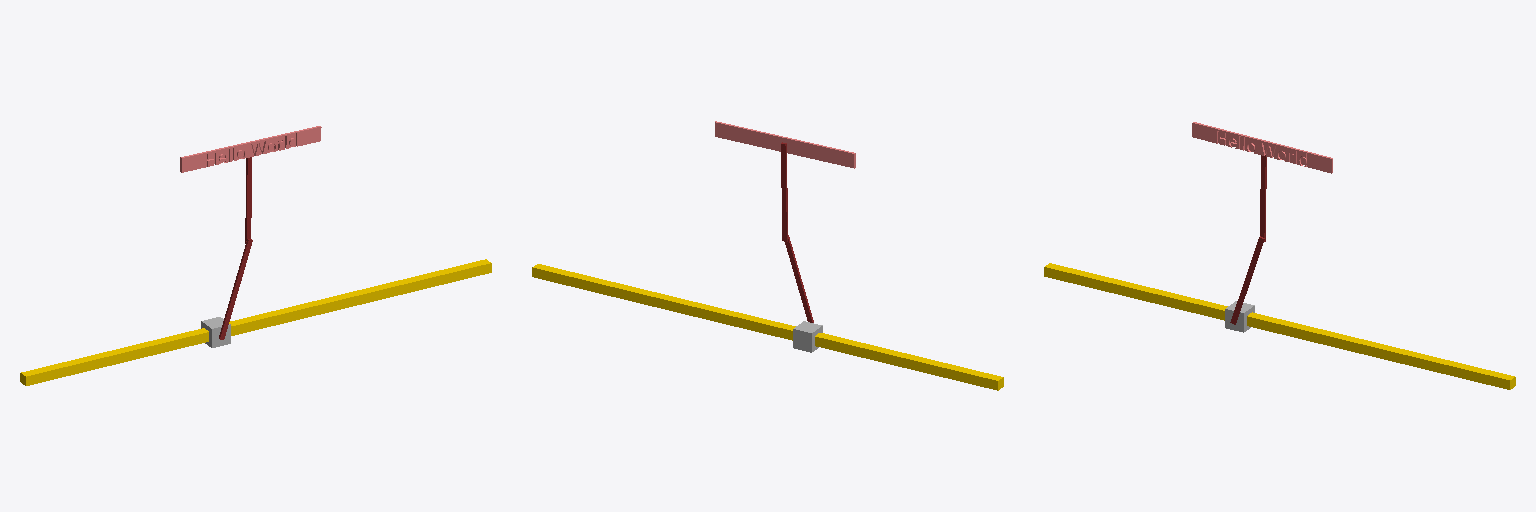
The robot description file, URDF, robot "DoublePendulum":
<?xml version="1.0" ?>
<!-- Generated using onshape-to-robot -->
<!-- Onshape https://cad.onshape.com/documents/23ff1b6c89f9297b7a0e9b8a/w/75eb753e20548f3cea30a049/e/ffe591d2a8c2ca2f335417a0 -->
<robot name="DoublePendulum">
  <material name="rail_material">
    <color rgba="1.0 0.84 0.3 1"/>
  </material>
  <material name="cart_material">
    <color rgba="0.75 0.75 0.75 1"/>
  </material>
  <material name="arm_material">
    <color rgba="0.2 0.3 0.7 1"/>
  </material>
  <material name="arm_2_material">
    <color rgba="0.2 0.3 0.7 1"/>
  </material>
  <material name="payload_material">
    <color rgba="0.11 0.33 0 1"/>
  </material>
  <!-- Link rail -->
  <link name="rail">
    <inertial>
      <origin xyz="0.33764 -0.0920018 0.120438" rpy="0 0 0"/>
      <mass value="61.824"/>
      <inertia ixx="0.0164864" ixy="0" ixz="0" iyy="20.6162" iyz="0" izz="20.6162"/>
    </inertial>
    <!-- Part rail -->
    <visual>
      <origin xyz="0.33764 -0.0720018 0.120438" rpy="0 -0 0"/>
      <geometry>
        <mesh filename="package://assets/rail.stl"/>
      </geometry>
      <material name="rail_material">
        <color rgba="1.0 0.84 0.0 1"/>
      </material>
    </visual>
    <collision>
      <origin xyz="0.33764 -0.0720018 0.120438" rpy="0 -0 0"/>
      <geometry>
        <mesh filename="package://assets/rail.stl"/>
      </geometry>
    </collision>
  </link>
  <!-- Link cart -->
  <link name="cart">
    <inertial>
      <origin xyz="-0.02 -1.11022e-16 -0.04" rpy="0 0 0"/>
      <mass value="0.563328"/>
      <inertia ixx="0.000675994" ixy="0" ixz="0" iyy="0.000675994" iyz="-6.51479e-21" izz="0.000751104"/>
    </inertial>
    <!-- Part cart -->
    <visual>
      <origin xyz="0.02 0.04 -0.04" rpy="-1.5708 -1.5708 0"/>
      <geometry>
        <mesh filename="package://assets/cart.stl"/>
      </geometry>
      <material name="cart_material">
        <color rgba="0.75 0.75 0.75 1"/>
      </material>
    </visual>
    <collision>
      <origin xyz="0.02 0.04 -0.04" rpy="-1.5708 -1.5708 0"/>
      <geometry>
        <mesh filename="package://assets/cart.stl"/>
      </geometry>
    </collision>
  </link>
  <!-- Link arm -->
  <link name="arm">
    <inertial>
      <origin xyz="1.58294e-17 -0.19 -0.005" rpy="0 0 0"/>
      <mass value="0.117337"/>
      <inertia ixx="0.00156495" ixy="-3.74755e-20" ixz="1.24579e-50" iyy="4.88981e-06" iyz="1.65186e-51" izz="0.00156788"/>
    </inertial>
    <!-- Part arm -->
    <visual>
      <origin xyz="0.00038825 -0.285581 -0.01" rpy="-1.5708 -7.16195e-48 -2.4095e-17"/>
      <geometry>
        <mesh filename="package://assets/arm.stl"/>
      </geometry>
      <material name="arm_material">
        <color rgba="0.6 0.2 0.2 1"/>
      </material>
    </visual>
    <collision>
      <origin xyz="0.00038825 -0.285581 -0.01" rpy="-1.5708 -7.16195e-48 -2.4095e-17"/>
      <geometry>
        <mesh filename="package://assets/arm.stl"/>
      </geometry>
    </collision>
  </link>
  <!-- Link arm_2 -->
  <link name="arm_2">
    <inertial>
      <origin xyz="-0.000260353 0.341568 0.00286989" rpy="0 0 0"/>
      <mass value="0.568835"/>
      <inertia ixx="0.00511402" ixy="3.4948e-06" ixz="3.89508e-07" iyy="0.0147778" iyz="-0.000176589" izz="0.0198639"/>
    </inertial>
    <!-- Part payload -->
    <visual>
      <origin xyz="1.11022e-16 0.38 0" rpy="-1.5708 3.64712e-48 2.32748e-18"/>
      <geometry>
        <mesh filename="package://assets/payload.stl"/>
      </geometry>
      <material name="payload_material">
        <color rgba="0.95 0.55 0.55 1"/>
      </material>
    </visual>
    <collision>
      <origin xyz="1.11022e-16 0.38 0" rpy="-1.5708 3.64712e-48 2.32748e-18"/>
      <geometry>
        <mesh filename="package://assets/payload.stl"/>
      </geometry>
    </collision>
    <!-- Part arm_2 -->
    <visual>
      <origin xyz="0.00038825 0.0944193 -0.01" rpy="-1.5708 3.64712e-48 2.32748e-18"/>
      <geometry>
        <mesh filename="package://assets/arm.stl"/>
      </geometry>
      <material name="arm_2_material">
        <color rgba="0.6 0.2 0.2 1"/>
      </material>
    </visual>
    <collision>
      <origin xyz="0.00038825 0.0944193 -0.01" rpy="-1.5708 3.64712e-48 2.32748e-18"/>
      <geometry>
        <mesh filename="package://assets/arm.stl"/>
      </geometry>
    </collision>
  </link>
  <!-- Joint from arm to arm_2 -->
  <joint name="revolute2" type="revolute">
    <origin xyz="-8.32667e-17 -0.38 0" rpy="-3.14159 -1.98396e-31 -0.299059"/>
    <parent link="arm"/>
    <child link="arm_2"/>
    <axis xyz="0 0 1"/>
    <limit effort="10" velocity="10" lower="-3.141592653589793" upper="3.141592653589793"/>
  </joint>
  <!-- Joint from cart to arm -->
  <joint name="revolute" type="revolute">
    <origin xyz="-0.06 -5.55112e-17 -0.04" rpy="-1.5708 -1.25587 -1.5708"/>
    <parent link="cart"/>
    <child link="arm"/>
    <axis xyz="0 0 1"/>
    <limit effort="10" velocity="10" lower="-3.141592653589793" upper="3.141592653589793"/>
  </joint>
  <!-- Joint from rail to cart -->
  <joint name="slide" type="prismatic">
    <origin xyz="0.205986 -0.0720018 0.120438" rpy="1.5708 -0 1.5708"/>
    <parent link="rail"/>
    <child link="cart"/>
    <axis xyz="0 0 1"/>
    <limit effort="10" velocity="10" lower="-1" upper="1"/>
  </joint>
</robot>

--- Render facts (derived) ---
3 views of the same robot in one strip: view 1: azimuth 30°, elevation 25°; view 2: azimuth 150°, elevation 25°; view 3: azimuth 330°, elevation 25° (orthographic).
Model DoublePendulum with 4 links and 3 joints (2 revolute, 1 prismatic), rooted at rail, posed all joints at 0.
Links seen in each view (by area): view 1: rail, arm_2, arm, cart; view 2: rail, arm_2, cart; view 3: rail, arm_2, arm, cart.
Boxes of the visible links, x1,y1,x2,y2 form: rail: (20,259,491,385); arm_2: (180,126,321,243); arm: (219,239,252,339); cart: (201,317,230,347); rail: (532,264,1003,390); arm_2: (715,121,855,241); cart: (793,321,822,352); rail: (1044,263,1515,389); arm_2: (1192,122,1332,241); arm: (1230,236,1264,324); cart: (1225,301,1254,332).
Size in the robot's own frame: 2 by 0.09 by 0.816 metres.
Meshes: 4 distinct files referenced, 5 mesh visuals loaded (4 binary STL).